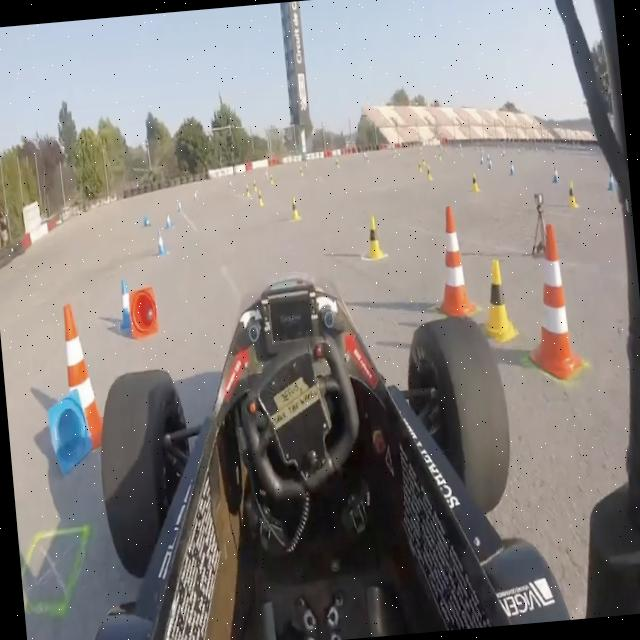blue_cone: (115, 278, 136, 330), (154, 229, 166, 256), (606, 167, 616, 194), (550, 162, 558, 185), (163, 210, 172, 230), (508, 158, 515, 177), (486, 154, 493, 173), (176, 199, 182, 212)
large_orange_cone: (528, 220, 582, 382), (56, 300, 111, 448), (434, 206, 476, 318)
yellow_cone: (476, 258, 516, 346), (363, 214, 384, 260), (565, 180, 579, 212), (288, 196, 299, 221), (470, 168, 480, 195), (244, 180, 252, 200), (424, 164, 432, 182), (251, 177, 258, 196), (256, 190, 263, 206), (268, 171, 274, 186), (417, 158, 422, 175)
